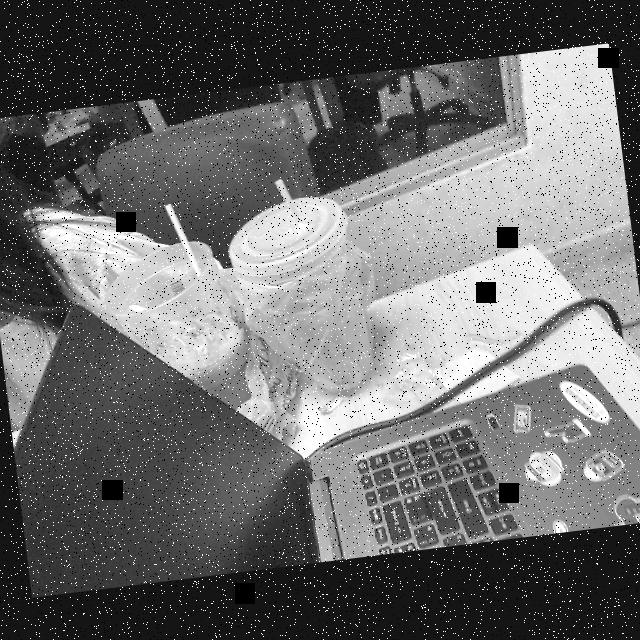plastic_bag: (226, 250, 384, 402), (224, 320, 306, 444)
plastic_cup: (218, 184, 381, 402), (95, 232, 260, 418)
plastic_cup_lid: (224, 186, 354, 284)
plastic_spoon: (126, 297, 180, 334)
scrap_paper: (429, 340, 525, 413)
scrap_plastic: (386, 337, 446, 408), (307, 385, 358, 421)
straw: (164, 200, 201, 282), (272, 175, 304, 229)
